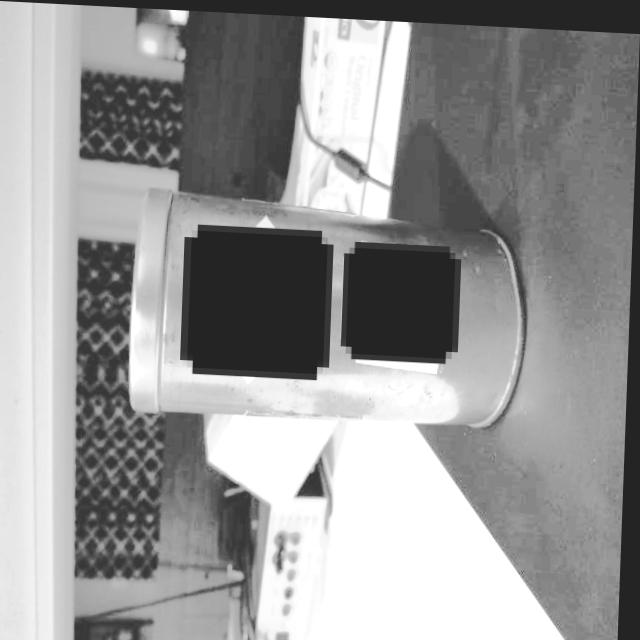qr_code: (190, 227, 330, 370), (348, 243, 457, 353)
